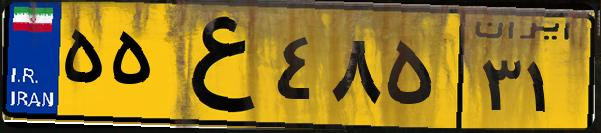1: (525, 38, 570, 115)
3: (475, 38, 525, 113)
4: (270, 28, 330, 110)
5: (385, 28, 445, 110), (57, 26, 110, 100), (110, 28, 158, 98)
8: (330, 28, 385, 110)
ع: (158, 12, 270, 120)
